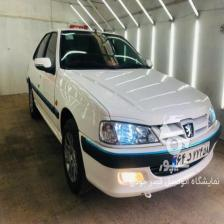plate: (172, 139, 209, 167)
